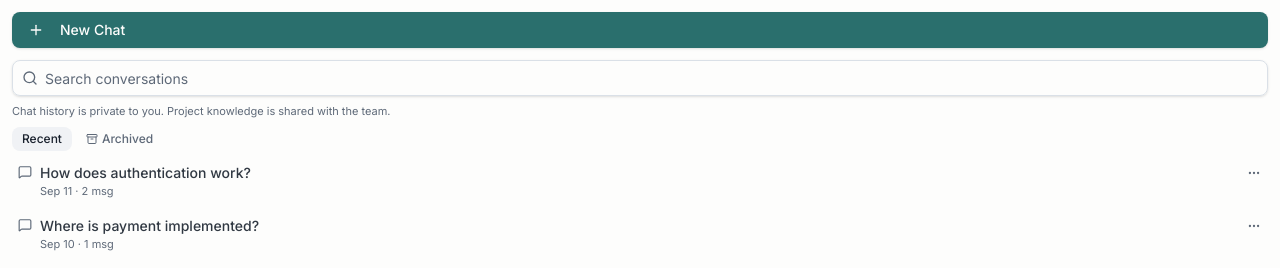
Test: ConversationList › searches via backend and shows dedicated empty state
Expected: the text "How does authentication work?" is shown, [40,164,251,181]
Type "zzzz-no-match" into the field with placeholder "Search conversations" at [640, 78], box [12,60,1268,96]
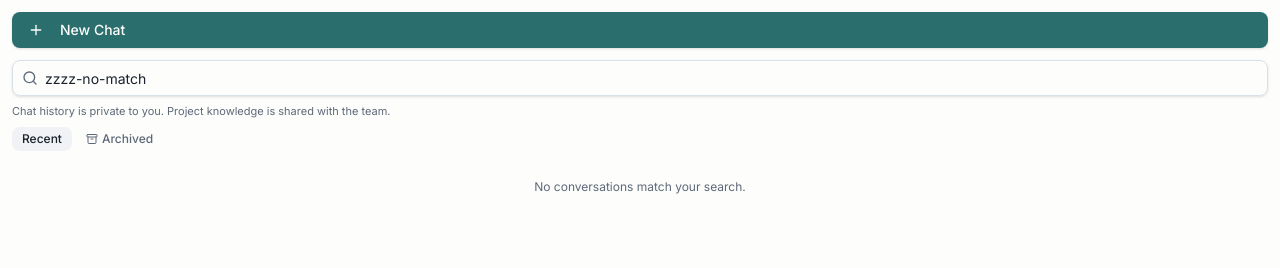
Result: the text "No conversations match your search." is shown at [534,179,746,194]
